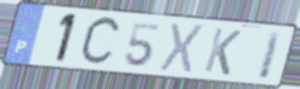1: (55, 12, 81, 66)
5: (122, 20, 163, 68)
C: (77, 14, 124, 69)
I: (255, 29, 284, 81)
K: (201, 26, 244, 77)
X: (157, 21, 207, 76)
